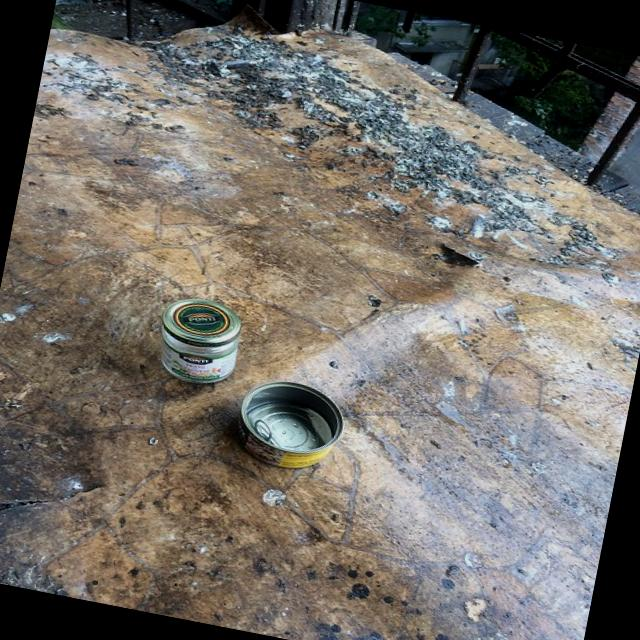Recycle: (230, 376, 354, 482), (150, 292, 248, 391)
